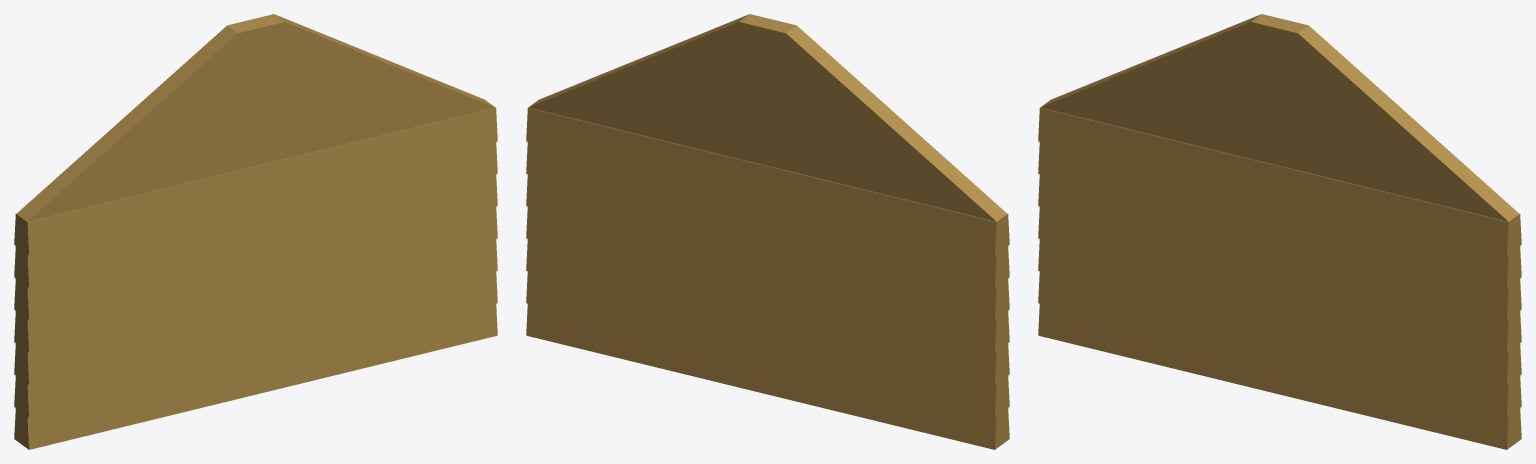
Rendered from GarageWall02_house4.obj.
3 renders of one model, left to right at view 1: azimuth 30°, elevation 25°; view 2: azimuth 150°, elevation 25°; view 3: azimuth 330°, elevation 25°, orthographic.
Visible parts, largest first — view 1: GarageWall0\2_house4_Cube.005; view 2: GarageWall0\2_house4_Cube.005; view 3: GarageWall0\2_house4_Cube.005.
Part boxes in pixels (x1,y1,x2,y2): GarageWall0\2_house4_Cube.005: [14, 14, 497, 449]; GarageWall0\2_house4_Cube.005: [526, 14, 1009, 449]; GarageWall0\2_house4_Cube.005: [1038, 14, 1521, 449].
Bounding box in the file's own units: 7.16 × 5.3 × 0.3957.
